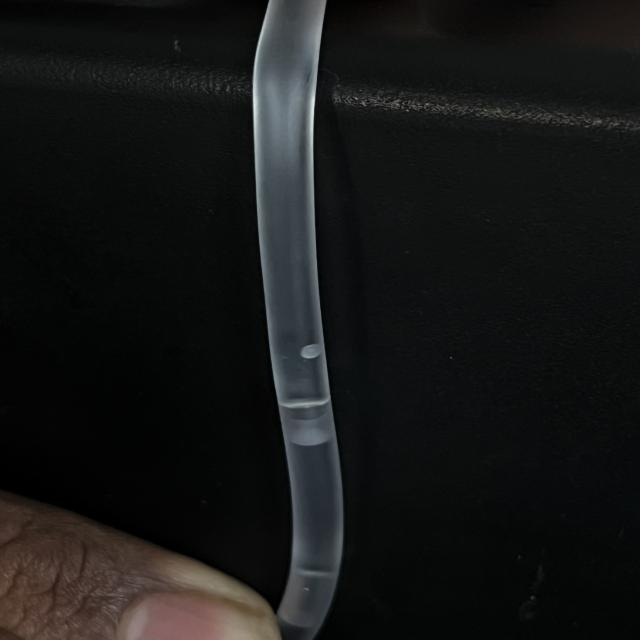bubble: (246, 393, 354, 460), (264, 557, 346, 631), (277, 325, 377, 364)
